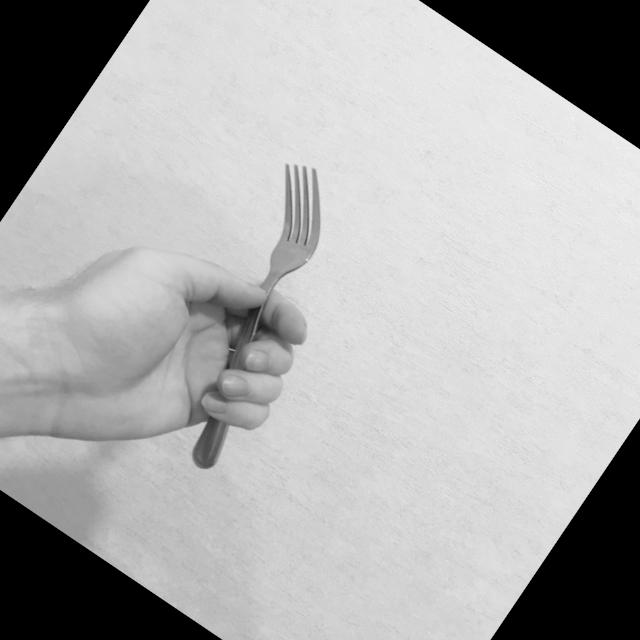fork: (116, 152, 386, 476)
